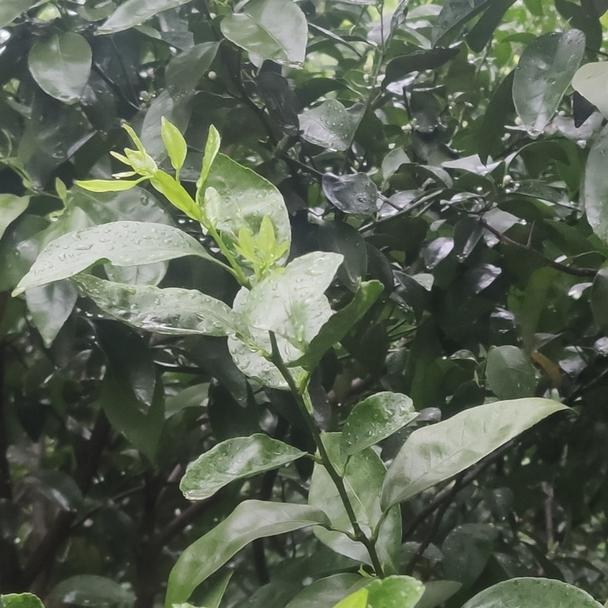shoot: (81, 124, 225, 235)
